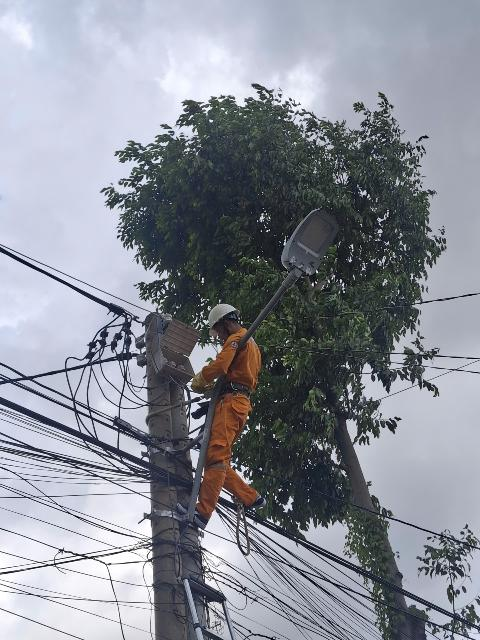gloves: (184, 369, 211, 392)
harness: (216, 381, 263, 401)
helmet: (205, 298, 245, 337)
shoes: (177, 496, 214, 535), (235, 490, 276, 510)
